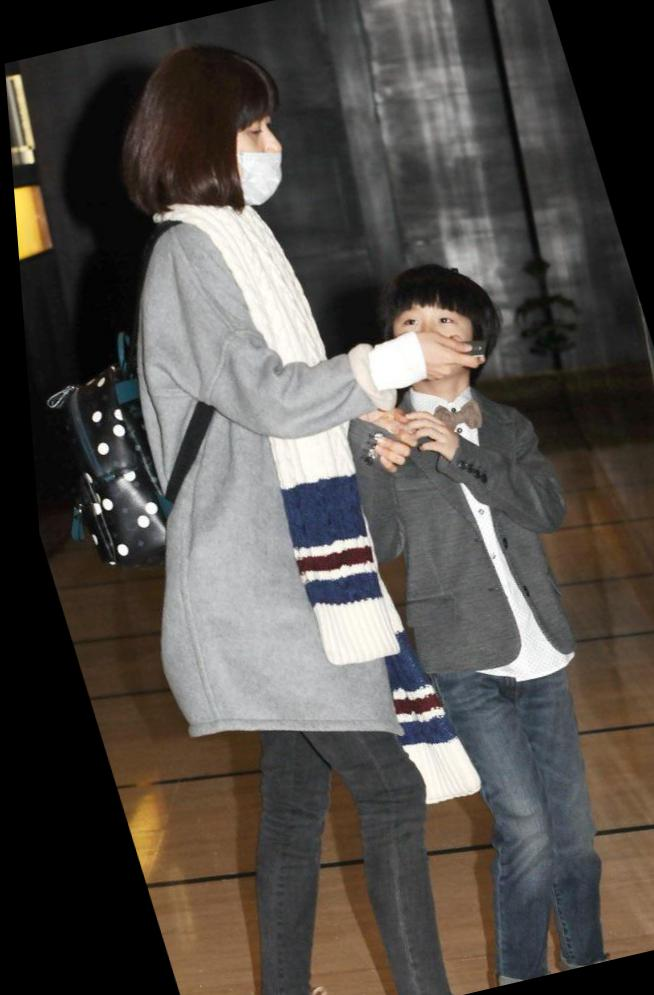NONE: (376, 286, 491, 395)
WRONG: (192, 112, 299, 213)
